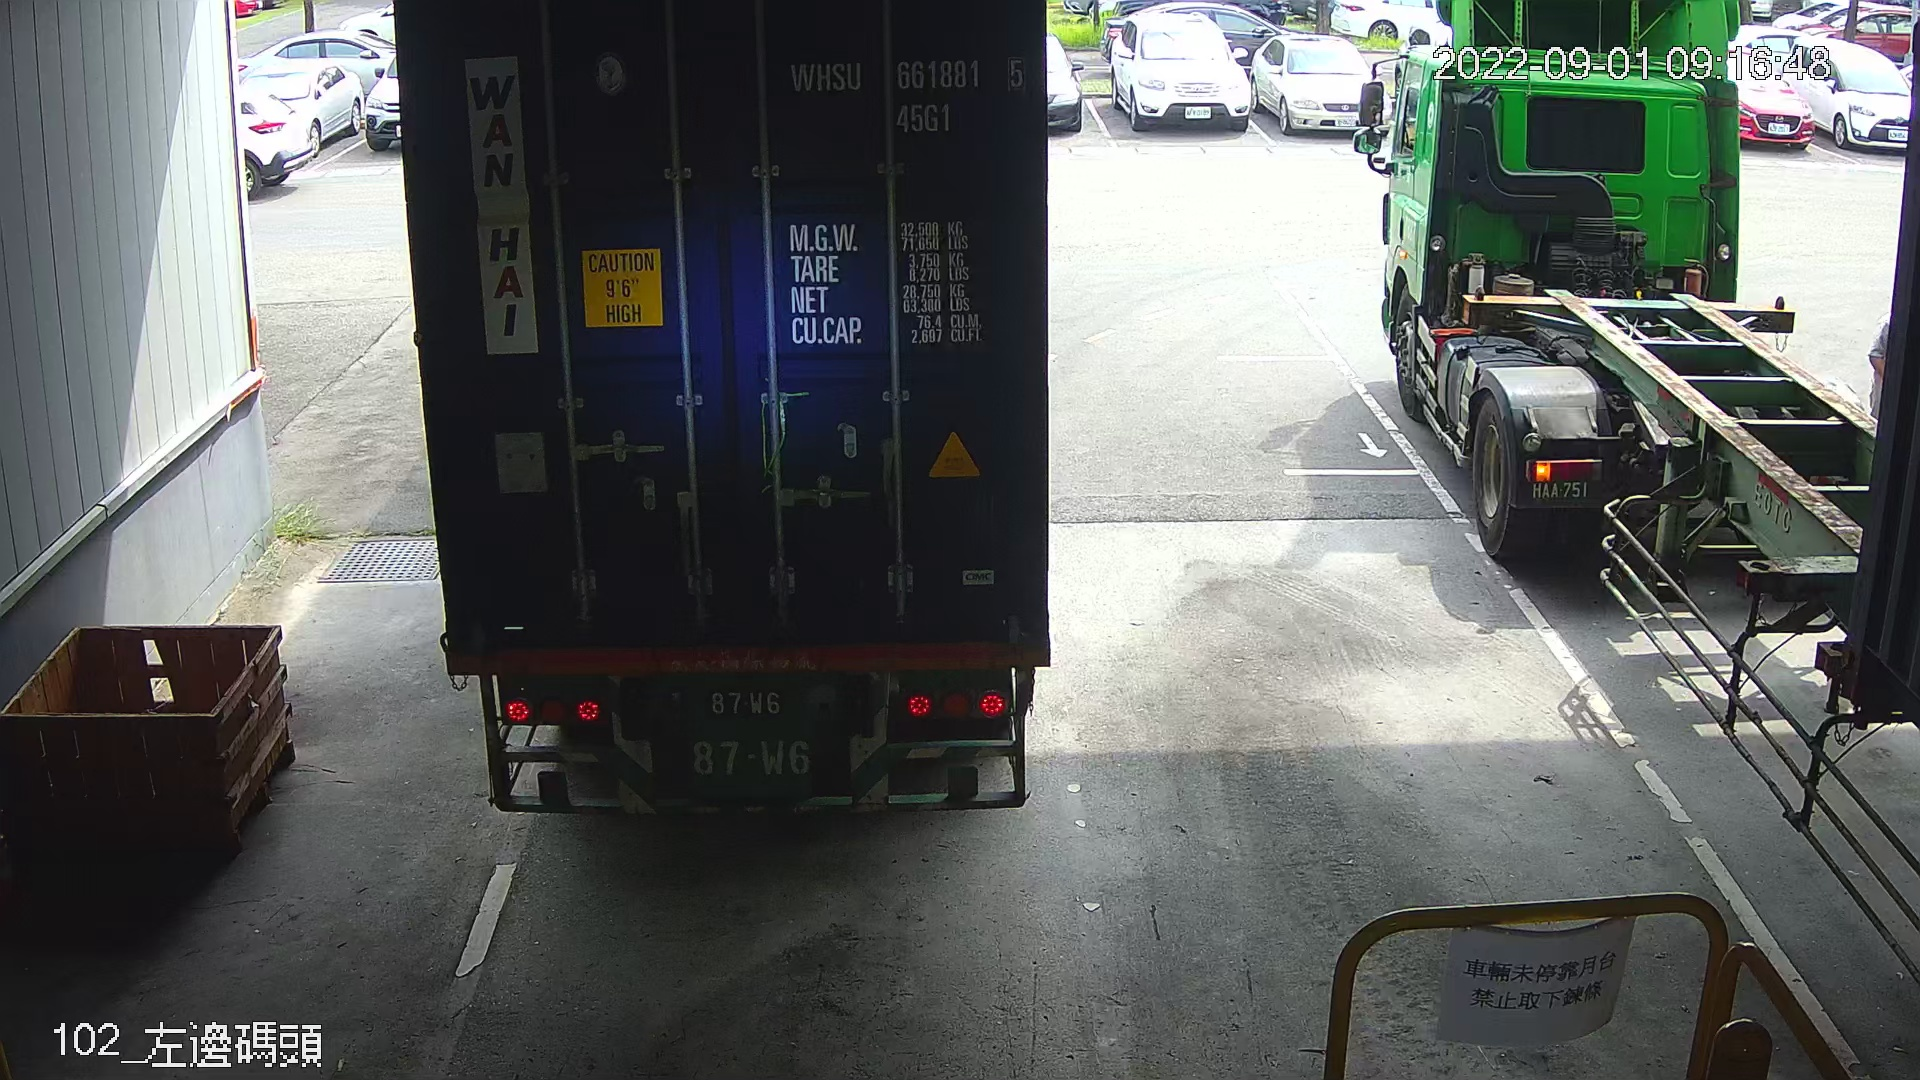container: (781, 51, 1035, 141)
